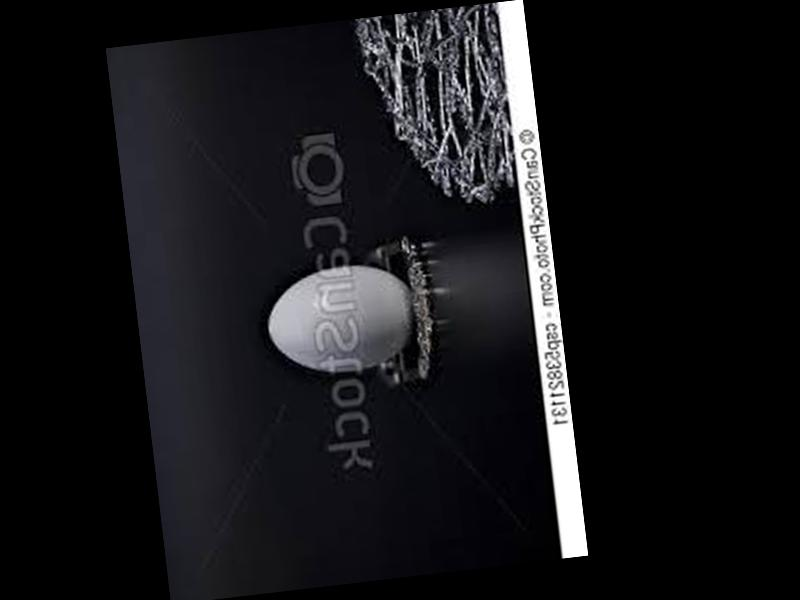Eggs: (262, 257, 420, 380)
